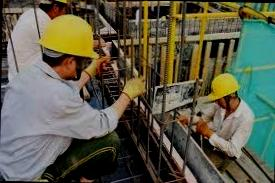helmet: (36, 11, 102, 66), (201, 71, 244, 103)
no_vest: (3, 58, 100, 168), (206, 103, 251, 157)
person: (184, 68, 254, 161)
